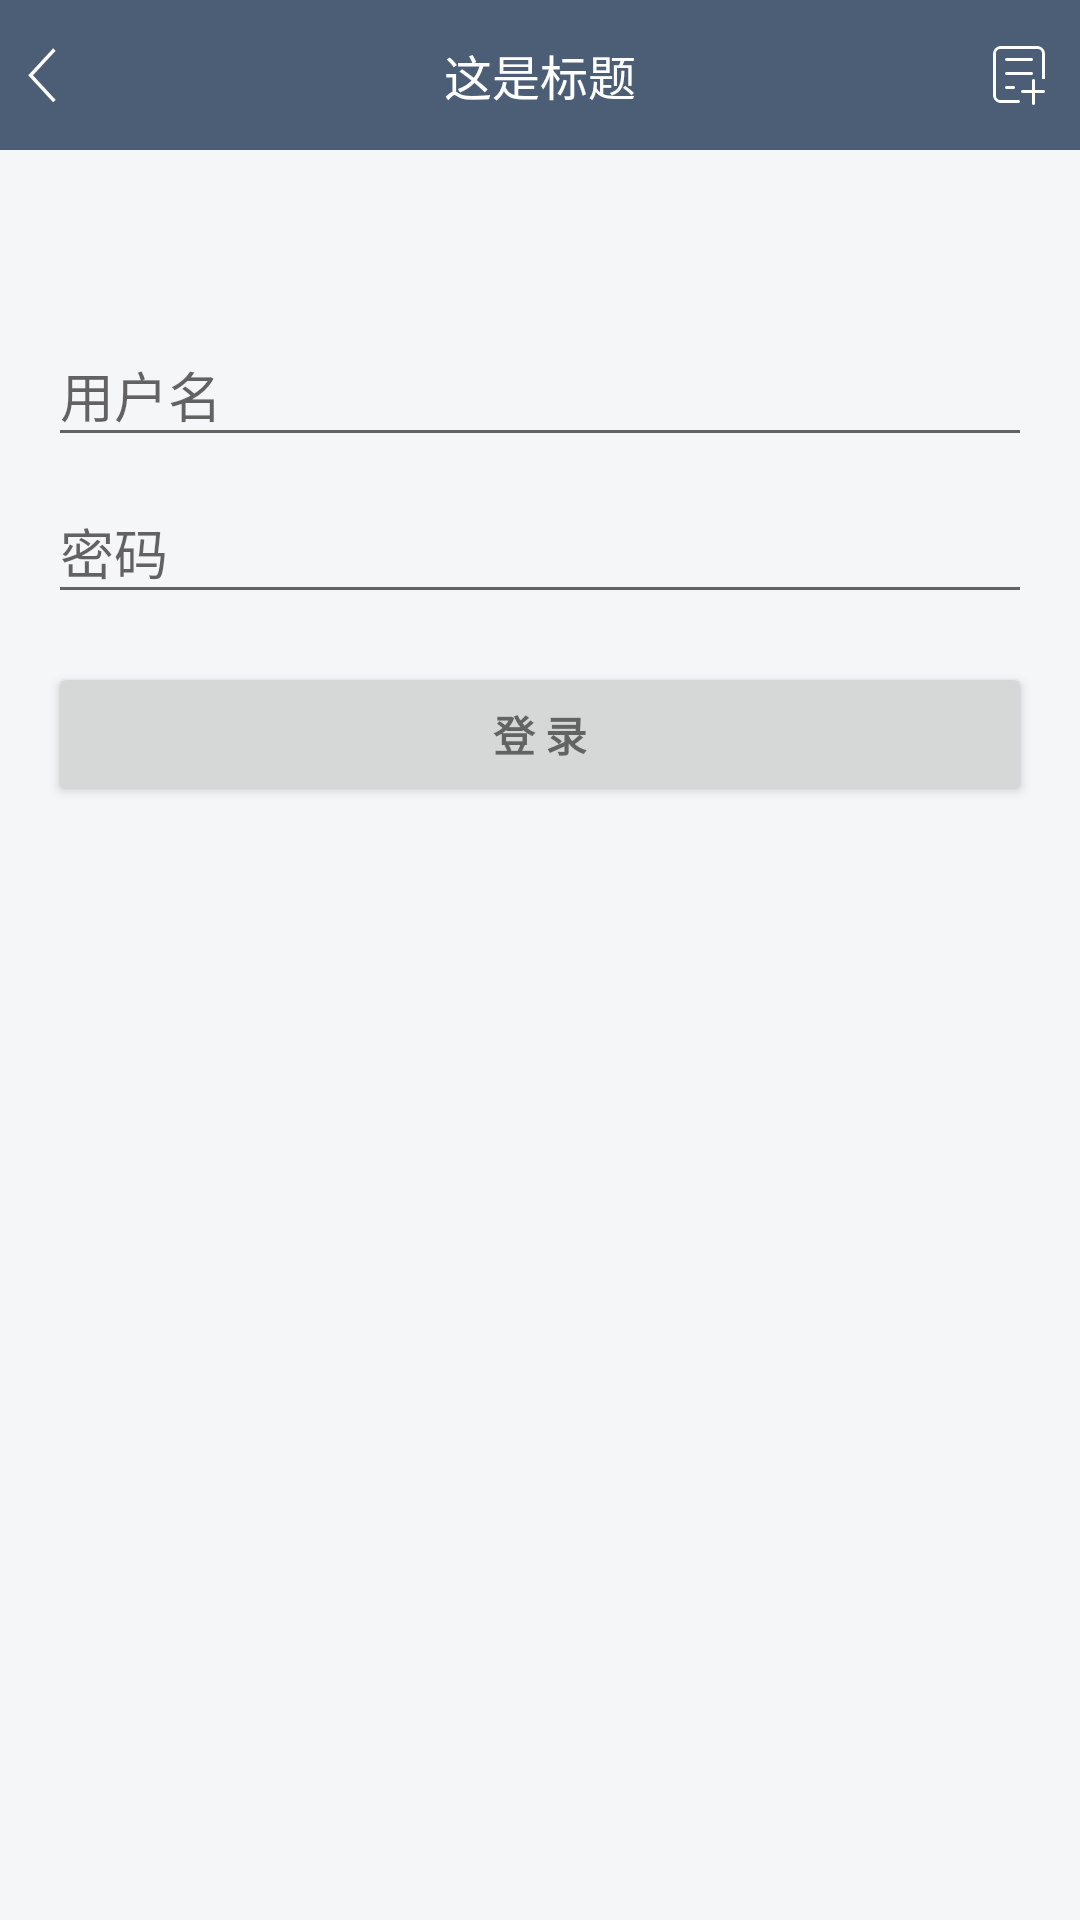

Screen size 1080 x 1920. Icon name, then its box in pixels as detection(x1, y1, x2, y2):
add: detection(993, 46, 1045, 105)
back: detection(28, 48, 56, 102)
